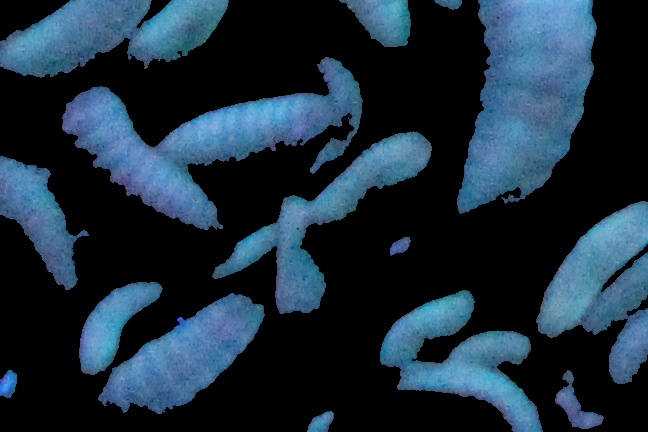larvae: (455, 1, 595, 214), (59, 92, 206, 249), (102, 297, 261, 412), (535, 200, 648, 338), (1, 1, 167, 83), (160, 89, 331, 164), (1, 156, 80, 294), (315, 133, 433, 225), (356, 276, 465, 370), (394, 362, 539, 432), (76, 280, 162, 377), (271, 198, 330, 330), (288, 1, 413, 60), (130, 1, 228, 69), (310, 58, 362, 168), (580, 256, 648, 340), (604, 307, 648, 386), (456, 325, 529, 368)
